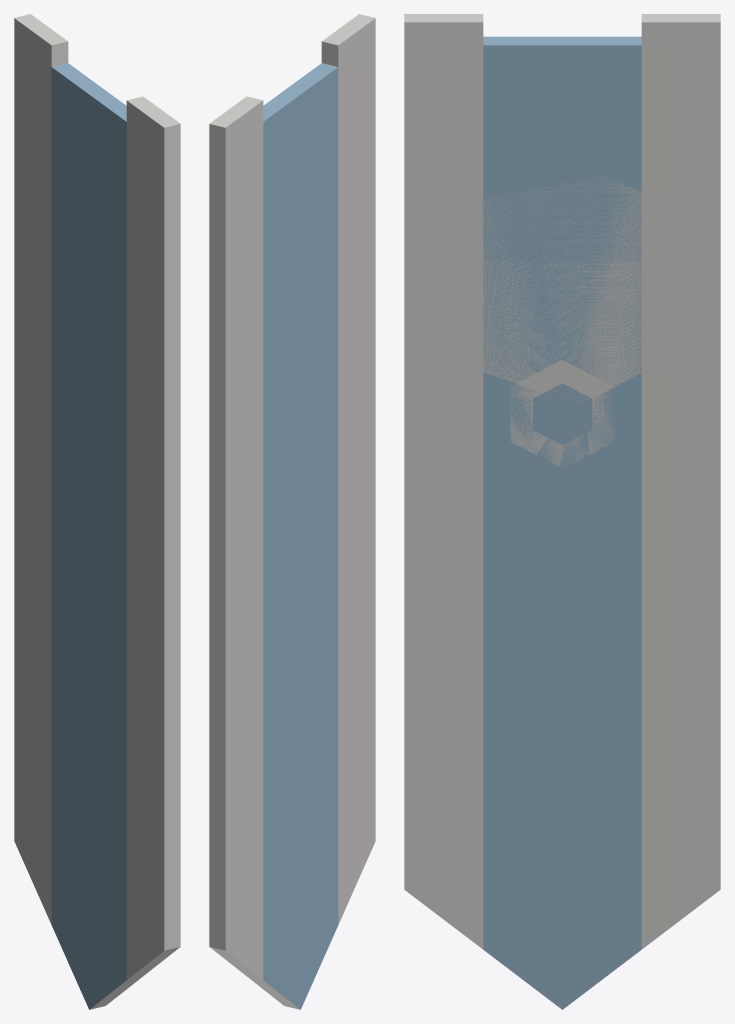
The model's file is flagBannerLong.fbx.
3 views of the same model, side by side, from view 1: azimuth 30°, elevation 25°; view 2: azimuth 150°, elevation 25°; view 3: azimuth 270°, elevation 25° (orthographic). The views are drawn at different scales.
Visible parts, largest first — view 1: flagBannerLong, flagBannerLong_cell.005, flagBannerLong_cell.008, flagBannerLong_cell.001, flagBannerLong_cell.002, flagBannerLong_cell.007, flagBannerLong_cell.006, flagBannerLong_cell.009, flagBannerLong_cell, flagBannerLong_cell.004; view 2: flagBannerLong, flagBannerLong_cell.008, flagBannerLong_cell.006, flagBannerLong_cell.009, flagBannerLong_cell.002, flagBannerLong_cell.001, flagBannerLong_cell.005, flagBannerLong_cell.007, flagBannerLong_cell.004, flagBannerLong_cell.003, flagBannerLong_cell; view 3: flagBannerLong, flagBannerLong_cell.006, flagBannerLong_cell.001, flagBannerLong_cell.009, flagBannerLong_cell.008, flagBannerLong_cell.002, flagBannerLong_cell.005, flagBannerLong_cell.004, flagBannerLong_cell.007, flagBannerLong_cell, flagBannerLong_cell.003.
Part boxes in pixels (bbox=[...]): flagBannerLong: bbox=[14, 14, 180, 1009]; flagBannerLong_cell.005: bbox=[14, 619, 102, 924]; flagBannerLong_cell.008: bbox=[14, 312, 77, 670]; flagBannerLong_cell.001: bbox=[14, 205, 180, 432]; flagBannerLong_cell.002: bbox=[70, 81, 180, 309]; flagBannerLong_cell.007: bbox=[14, 21, 86, 206]; flagBannerLong_cell.006: bbox=[106, 422, 180, 762]; flagBannerLong_cell.009: bbox=[74, 727, 159, 939]; flagBannerLong_cell: bbox=[52, 901, 105, 1009]; flagBannerLong_cell.004: bbox=[67, 426, 98, 694]; flagBannerLong: bbox=[209, 14, 375, 1009]; flagBannerLong_cell.008: bbox=[209, 417, 289, 727]; flagBannerLong_cell.006: bbox=[323, 312, 375, 690]; flagBannerLong_cell.009: bbox=[287, 653, 375, 964]; flagBannerLong_cell.002: bbox=[282, 14, 375, 224]; flagBannerLong_cell.001: bbox=[209, 207, 373, 440]; flagBannerLong_cell.005: bbox=[209, 705, 313, 966]; flagBannerLong_cell.007: bbox=[209, 96, 281, 315]; flagBannerLong_cell.004: bbox=[288, 448, 323, 705]; flagBannerLong_cell.003: bbox=[299, 376, 339, 474]; flagBannerLong_cell: bbox=[247, 948, 319, 1009]; flagBannerLong: bbox=[404, 14, 720, 1009]; flagBannerLong_cell.006: bbox=[404, 331, 534, 696]; flagBannerLong_cell.001: bbox=[404, 176, 720, 401]; flagBannerLong_cell.009: bbox=[404, 691, 596, 977]; flagBannerLong_cell.008: bbox=[585, 332, 720, 676]; flagBannerLong_cell.002: bbox=[404, 14, 601, 213]; flagBannerLong_cell.005: bbox=[535, 657, 720, 949]; flagBannerLong_cell.004: bbox=[516, 402, 608, 698]; flagBannerLong_cell.007: bbox=[602, 14, 720, 219]; flagBannerLong_cell: bbox=[525, 902, 637, 1009]; flagBannerLong_cell.003: bbox=[482, 372, 555, 456].
Size of the model in its own units: 40 by 2170 by 630.
